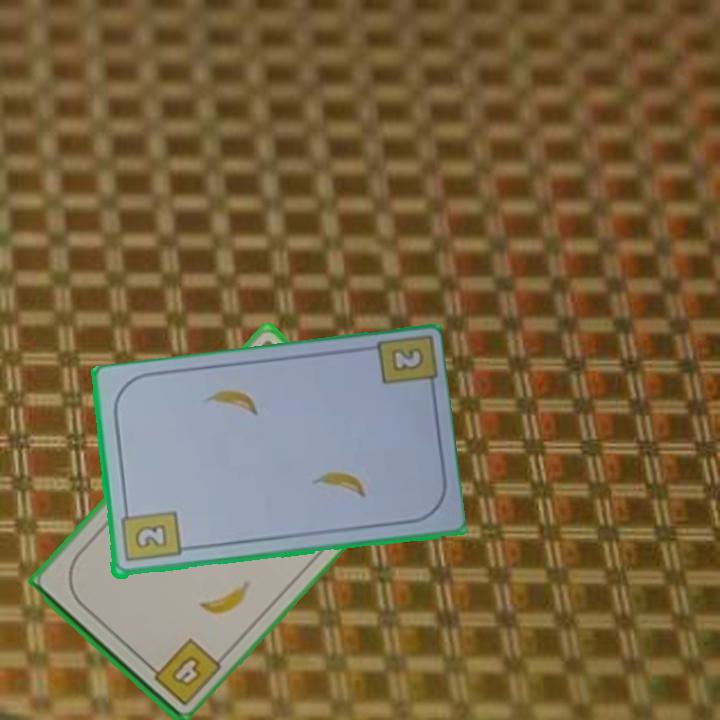2b: (117, 504, 183, 565), (391, 347, 423, 372)
4b: (142, 634, 225, 709)
